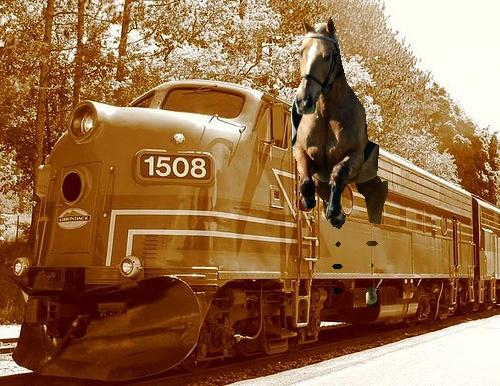tampered: (292, 18, 388, 307)
